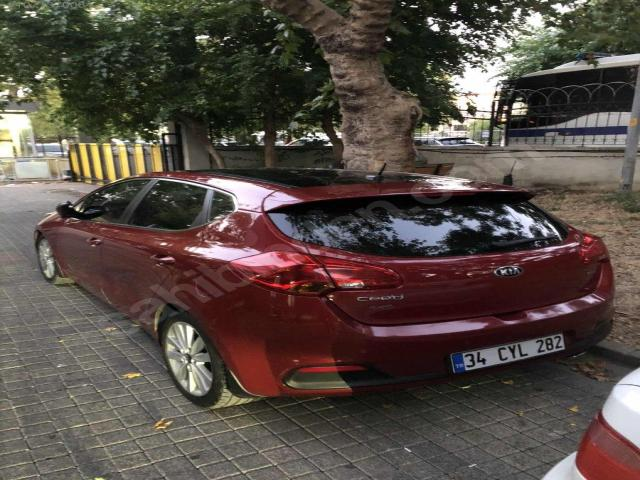plaka: (451, 334, 565, 373)
